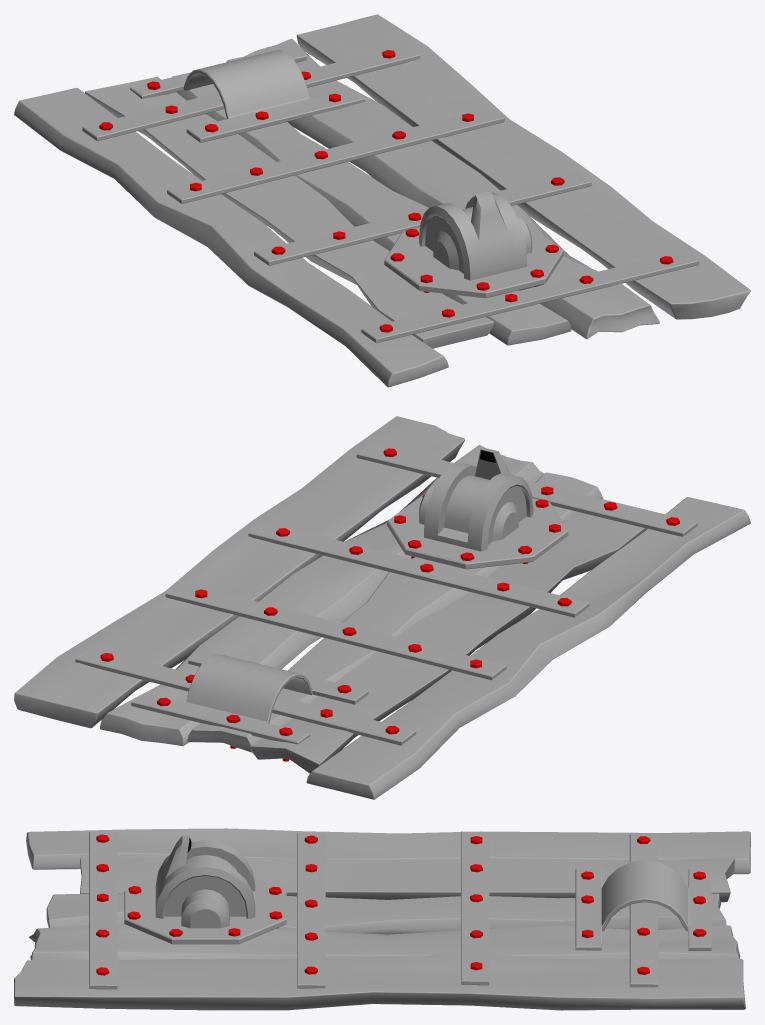
The model's file is ID_Dummy_Baseboard.fbx.
The picture shows the model from 3 angles, top to bottom: view 1: azimuth 30°, elevation 25°; view 2: azimuth 150°, elevation 25°; view 3: azimuth 270°, elevation 25°; orthographic projection. The views are drawn at different scales.
Visible parts, largest first — view 1: Dummy_Baseboard_id; view 2: Dummy_Baseboard_id; view 3: Dummy_Baseboard_id.
Part boxes in pixels (bbox=[...]): Dummy_Baseboard_id: bbox=[14, 14, 750, 387]; Dummy_Baseboard_id: bbox=[14, 416, 750, 799]; Dummy_Baseboard_id: bbox=[14, 828, 750, 1010].
Bounding box in the file's own units: 122 × 31.5 × 220.
